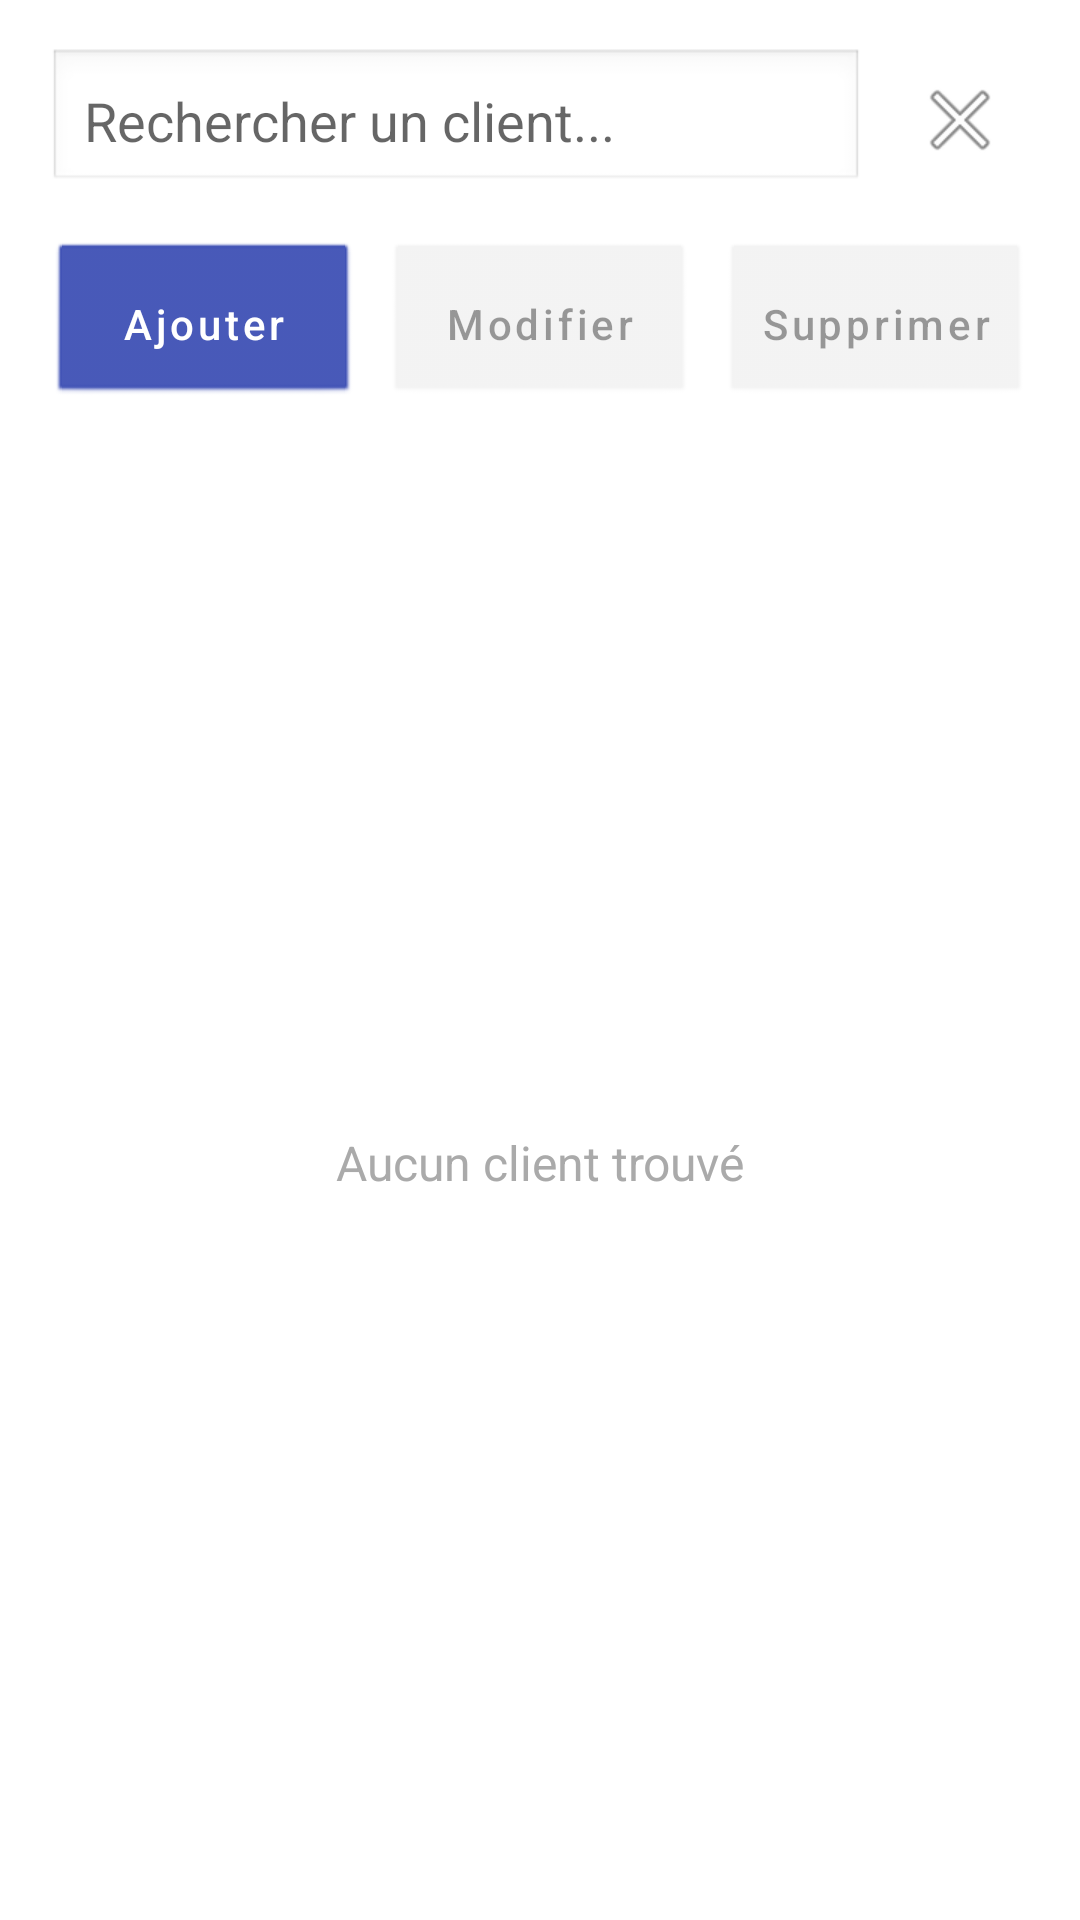

Where icons sit on this 1080 × 1920 app screen, as box(x1, y1, x2, y2):
Effacer: box(930, 90, 990, 150)
